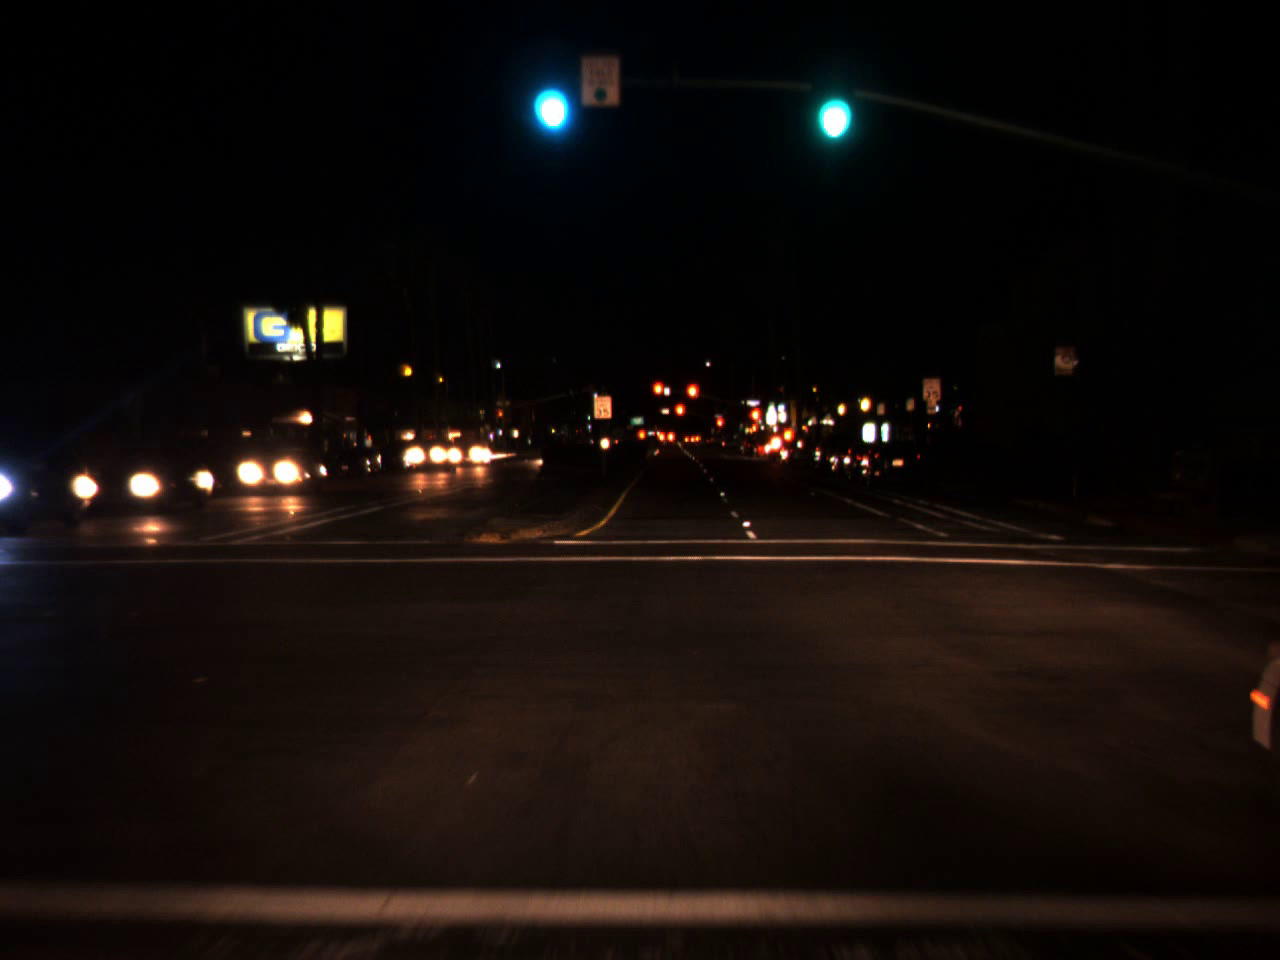go: (808, 63, 853, 150), (531, 58, 570, 139)
stop: (684, 380, 700, 417), (672, 401, 687, 433), (651, 380, 666, 409), (750, 407, 762, 434), (715, 416, 725, 432), (497, 411, 503, 421)
